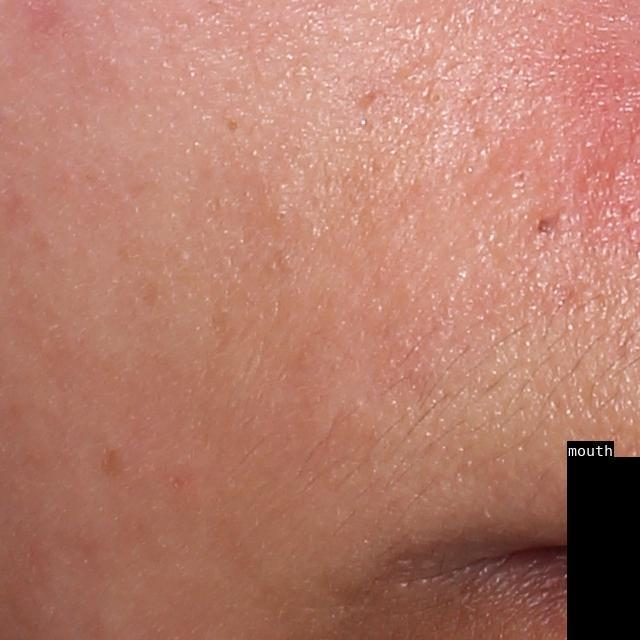comedo: (426, 90, 445, 106)
